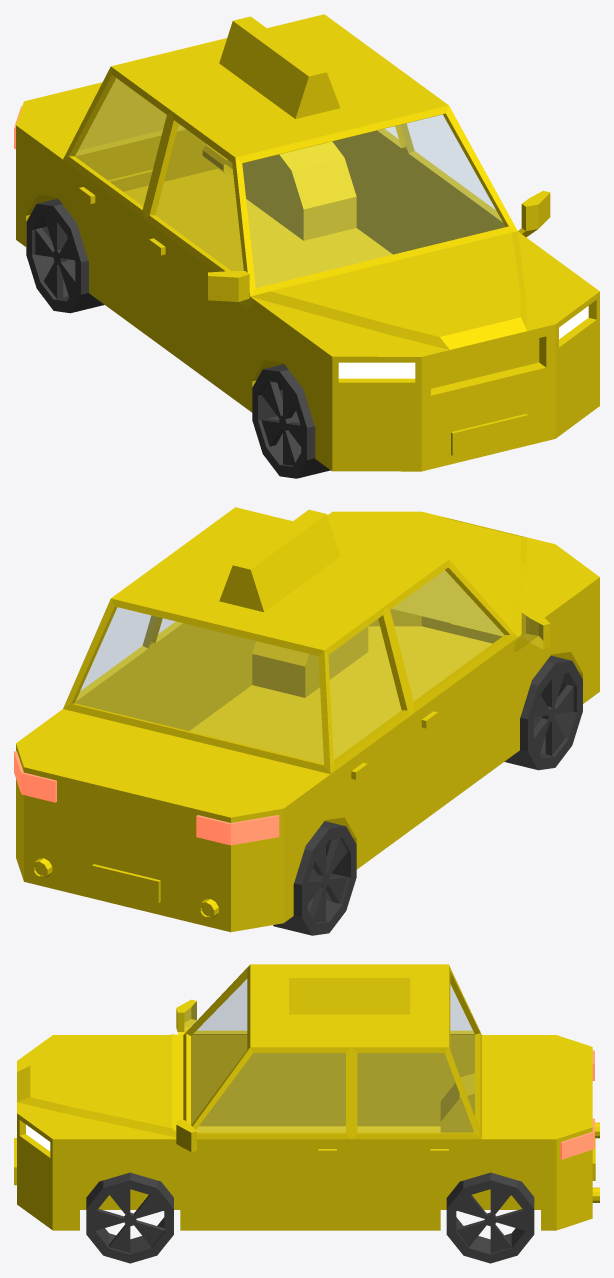
File: taxi.glb
The picture shows the model from 3 angles, top to bottom: view 1: azimuth 30°, elevation 25°; view 2: azimuth 150°, elevation 25°; view 3: azimuth 270°, elevation 25°; orthographic projection. The views are drawn at different scales.
Parts seen in each view (by area): view 1: Taxi, Taxi wheel front right, Taxi wheel rear right; view 2: Taxi, Taxi wheel rear right, Taxi wheel front right; view 3: Taxi, Taxi wheel rear left, Taxi wheel front left.
Boxes of the visible parts, box(x1,y1,x2,y2) form: Taxi: box(14, 14, 599, 471); Taxi wheel front right: box(252, 364, 330, 478); Taxi wheel rear right: box(26, 198, 104, 313); Taxi: box(14, 507, 599, 932); Taxi wheel rear right: box(273, 821, 356, 935); Taxi wheel front right: box(504, 655, 582, 770); Taxi: box(14, 964, 599, 1230); Taxi wheel rear left: box(446, 1172, 534, 1263); Taxi wheel front left: box(86, 1172, 173, 1263).
Size of the model in its own units: 2.81 by 2.32 by 5.23.
